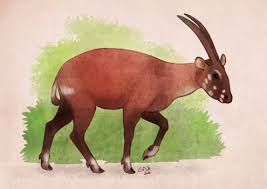sao_la: (55, 21, 230, 154)
